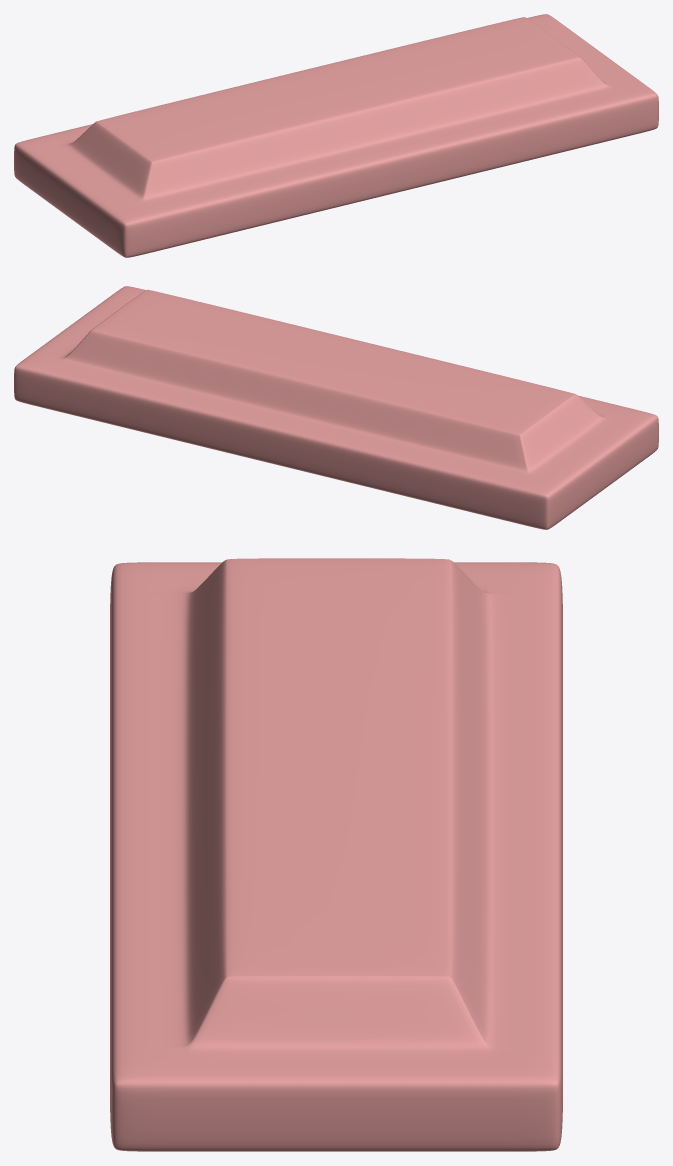
The picture shows the model from 3 angles, top to bottom: view 1: azimuth 30°, elevation 25°; view 2: azimuth 150°, elevation 25°; view 3: azimuth 270°, elevation 25°; orthographic projection. The views are drawn at different scales.
Parts seen in each view (by area): view 1: pCube2; view 2: pCube2; view 3: pCube2.
Boxes of the visible parts, x1=… form: pCube2: x1=14, y1=14, x2=658, y2=257; pCube2: x1=14, y1=286, x2=658, y2=529; pCube2: x1=110, y1=558, x2=562, y2=1151.
Size of the model in its own units: 17.31 by 2.03 by 6.32.
